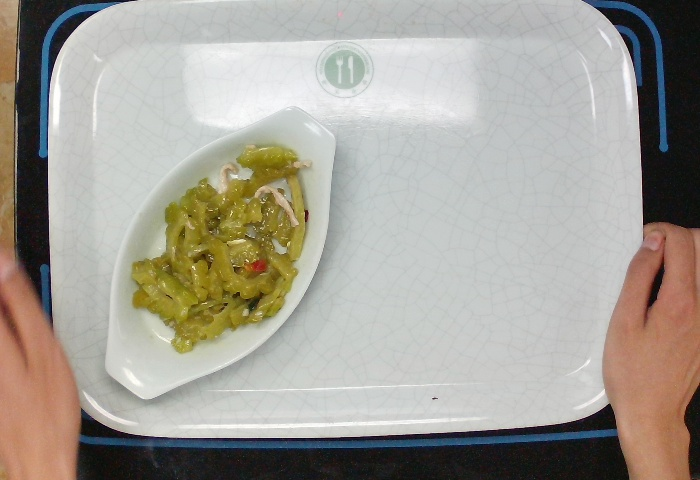JYsf-Yu_Pan: (98, 96, 339, 403)
